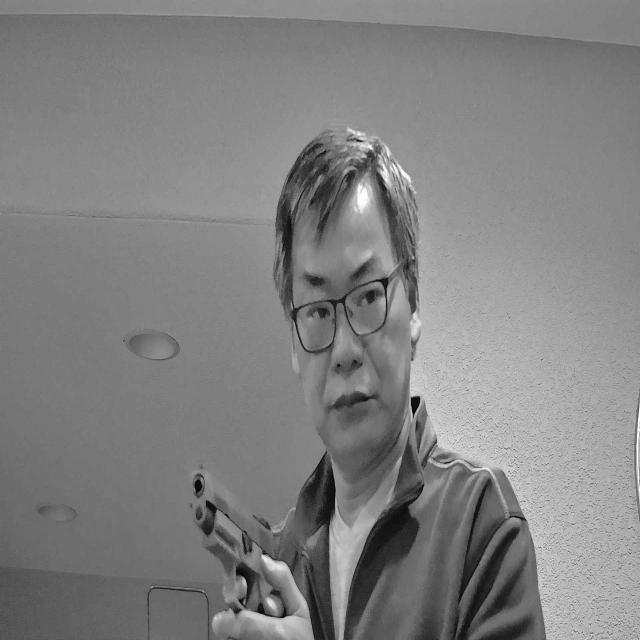Hand-Gun: (144, 365, 354, 640)
